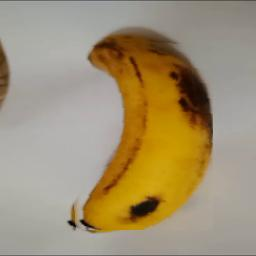Banana Semifresh: (63, 38, 213, 231)
